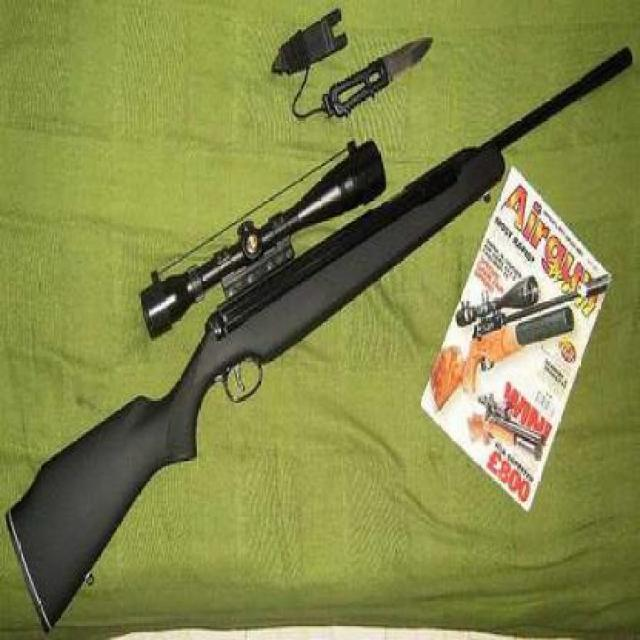weapon: (0, 47, 635, 639)
